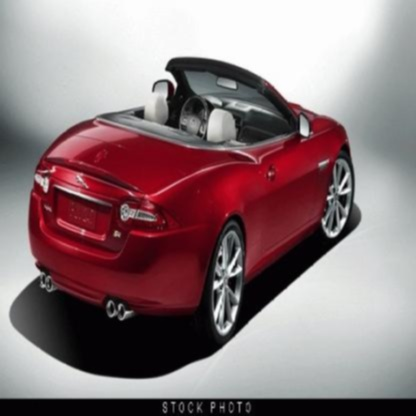Vehicle: (29, 57, 356, 349)
